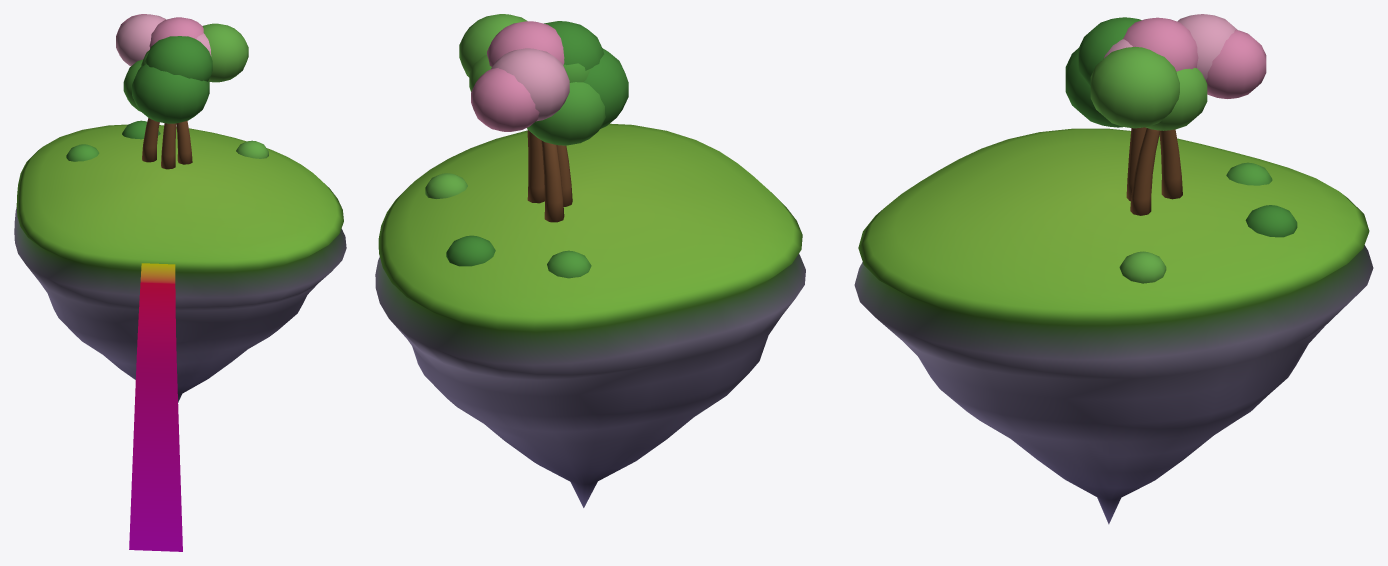
Rendered from insulita_cascada_c.glb.
3 views of the same model, side by side, from view 1: azimuth 30°, elevation 25°; view 2: azimuth 150°, elevation 25°; view 3: azimuth 270°, elevation 25° (orthographic). The views are drawn at different scales.
Visible parts, largest first — view 1: Corp, Cascada; view 2: Corp; view 3: Corp.
Part boxes in pixels (bbox=[...]): Corp: bbox=[14, 14, 346, 402]; Cascada: bbox=[129, 263, 182, 551]; Corp: bbox=[375, 14, 805, 507]; Corp: bbox=[854, 14, 1373, 524].
Bounding box in the file's own units: 5.81 × 8.45 × 6.66.
